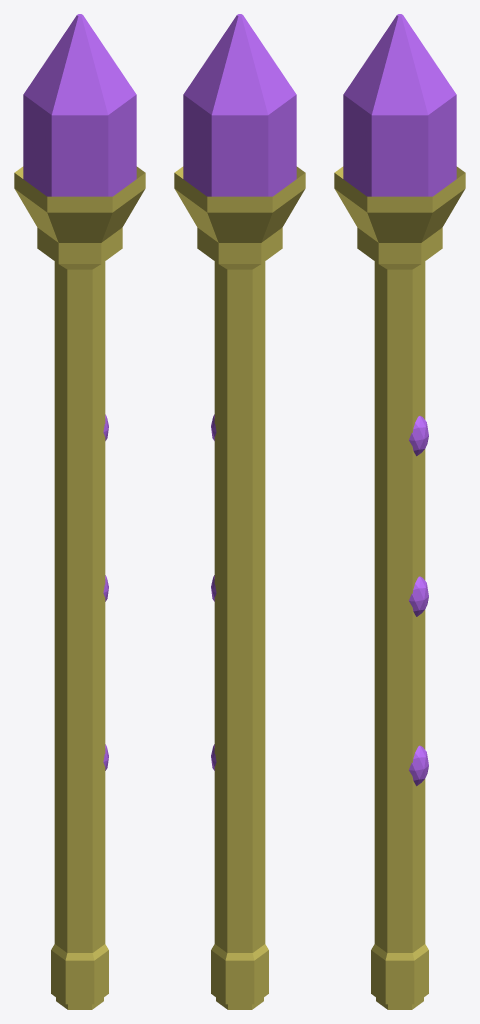
The model's file is Sceptre.fbx.
3 views of the same model, side by side, from view 1: azimuth 30°, elevation 25°; view 2: azimuth 150°, elevation 25°; view 3: azimuth 330°, elevation 25° (orthographic).
Visible parts, largest first — view 1: Staff, Gem; view 2: Staff, Gem; view 3: Staff, Gem, Side gems.001, Side gems, Side gems.002.
Boxes of the visible parts, x1,y1,x2,y2 form: Staff: (14,166,145,1009); Gem: (23,14,136,196); Staff: (174,166,305,1009); Gem: (183,14,296,196); Staff: (334,166,465,1009); Gem: (343,14,456,196); Side gems.001: (409,745,428,786); Side gems: (409,416,428,456); Side gems.002: (409,576,428,616).
Bounding box in the file's own units: 104 × 998 × 120.
